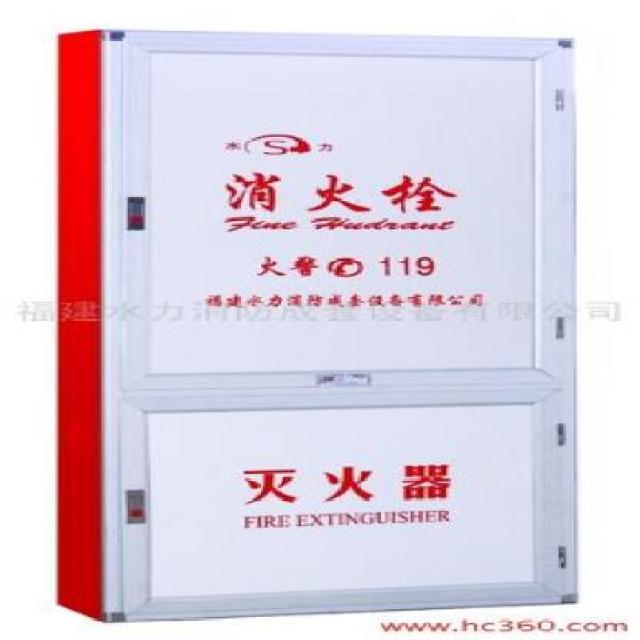firehydrant: (46, 23, 591, 628)
